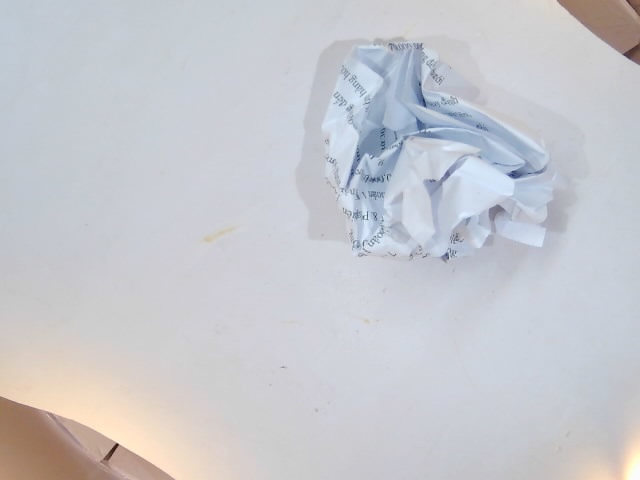paper: (289, 28, 563, 304)
